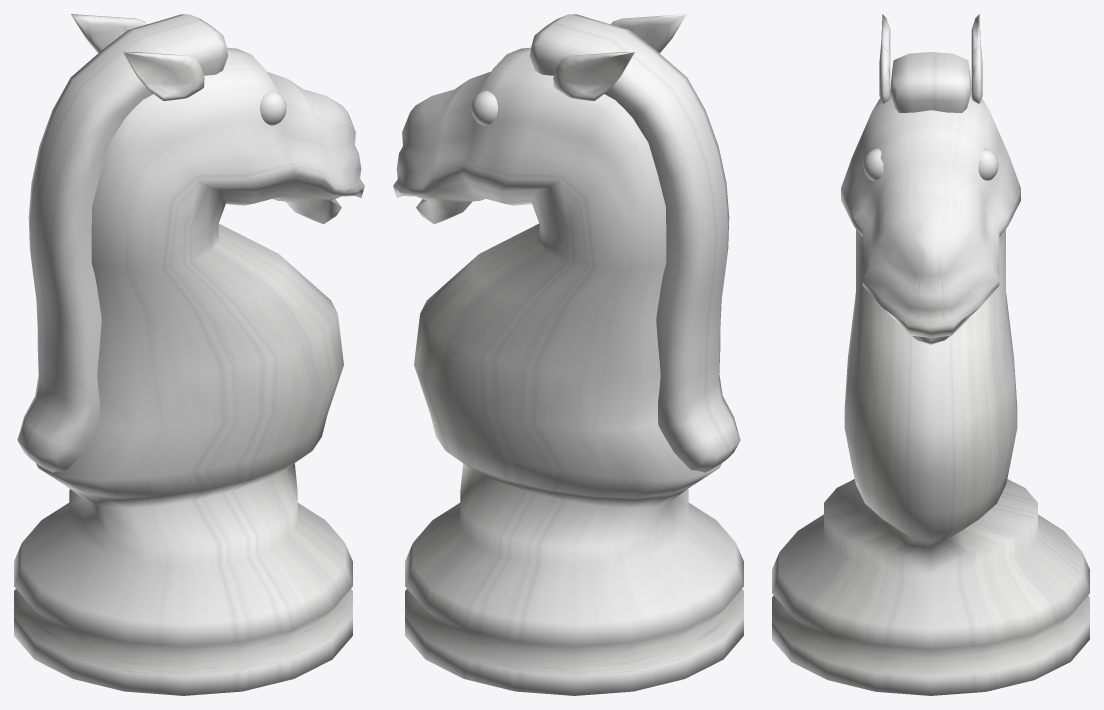
The model's file is w-knight-stone.gltf.
The picture shows the model from 3 angles, left to right: view 1: azimuth 30°, elevation 25°; view 2: azimuth 150°, elevation 25°; view 3: azimuth 270°, elevation 25°; orthographic projection. The views are drawn at different scales.
Parts seen in each view (by area): view 1: W_Knight; view 2: W_Knight; view 3: W_Knight.
Boxes of the visible parts, x1,y1,x2,y2 form: W_Knight: (14,14,364,695); W_Knight: (393,14,743,695); W_Knight: (772,14,1089,695).
Size of the model in its own units: 54.86 by 98.92 by 48.6.
Materials: 1 (1 with a texture image).
